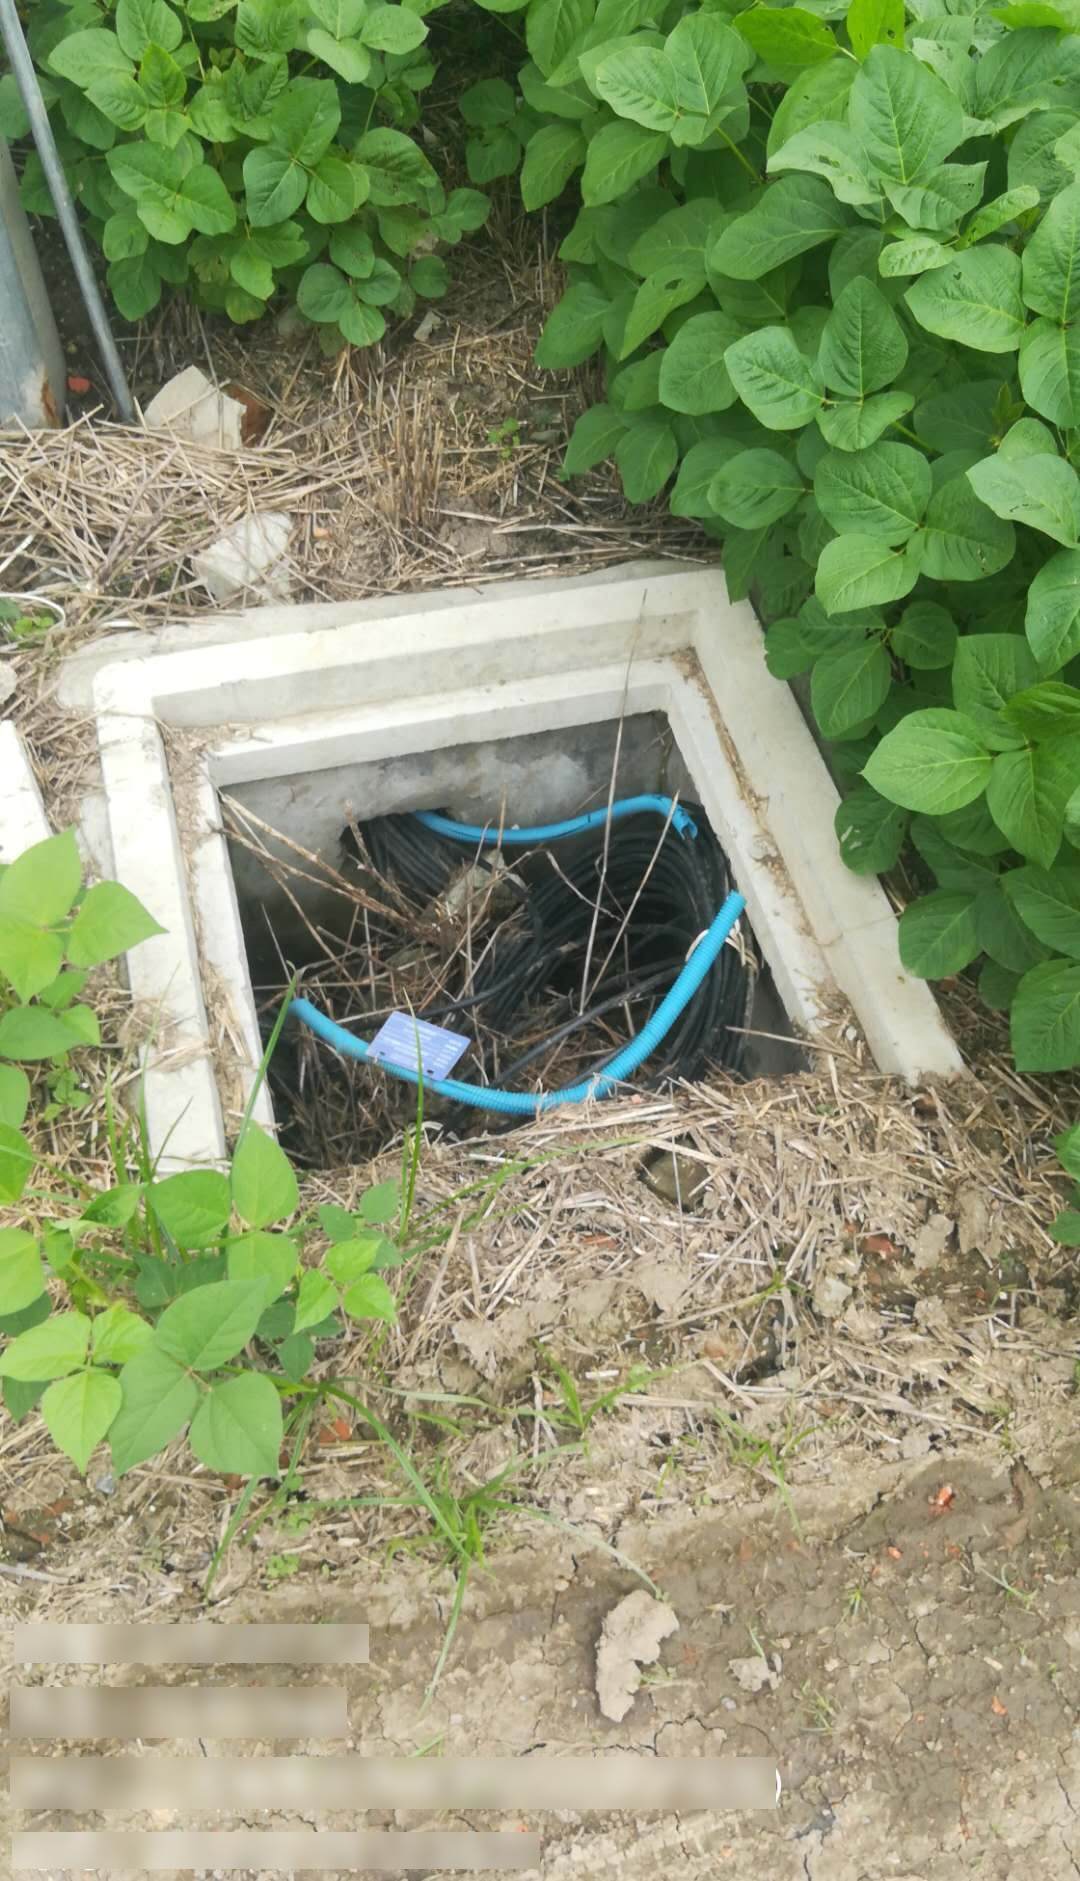lose: (81, 562, 990, 1245)
